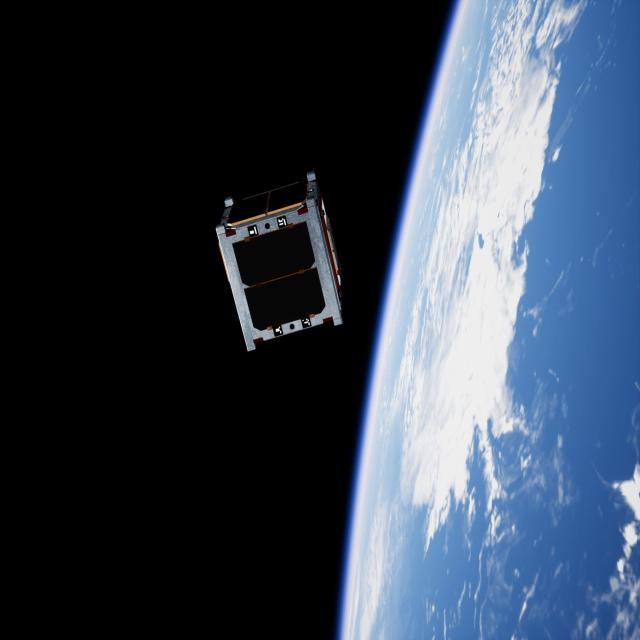medium_debris: (209, 164, 354, 361)
